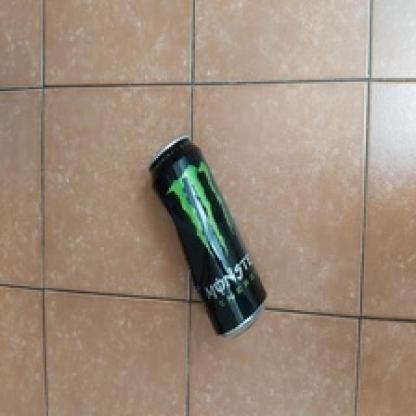Can: (149, 136, 267, 340)
